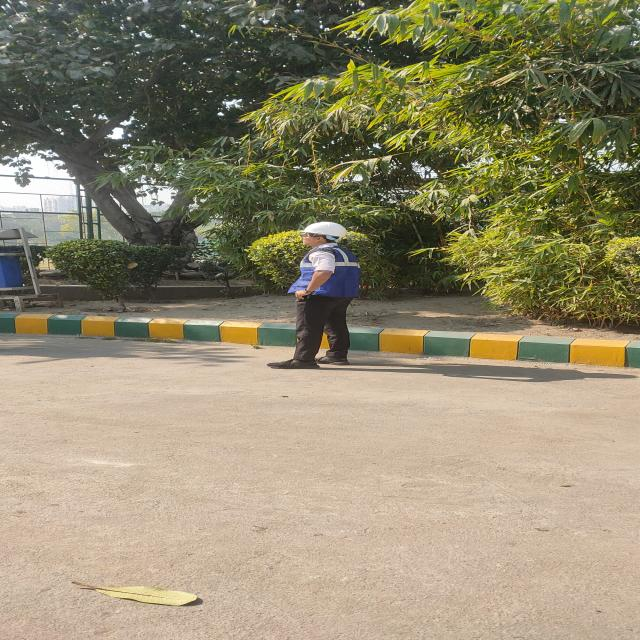safe: (287, 222, 360, 368)
